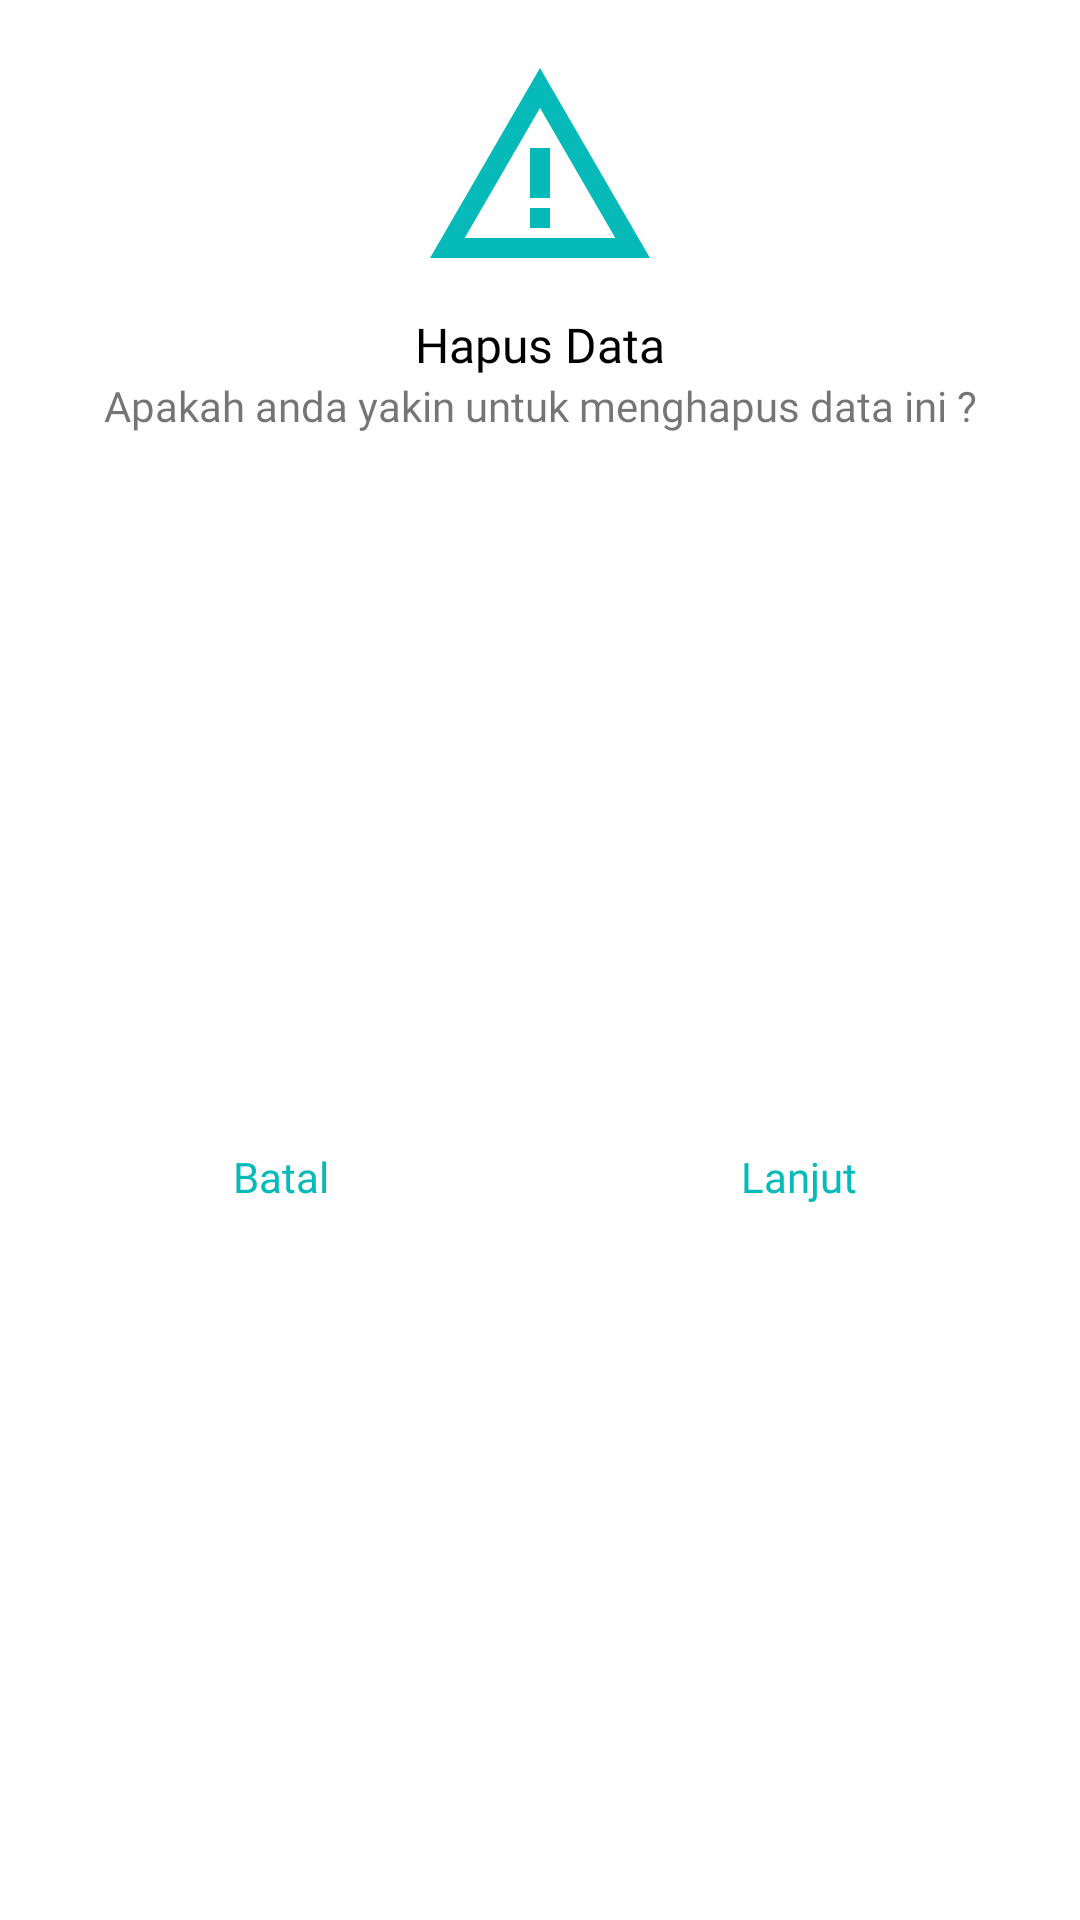

Screen size 1080 × 1920. Icon name, then its box in pixels as (x1, y1, x2, y2):
warning: (430, 68, 650, 258)
